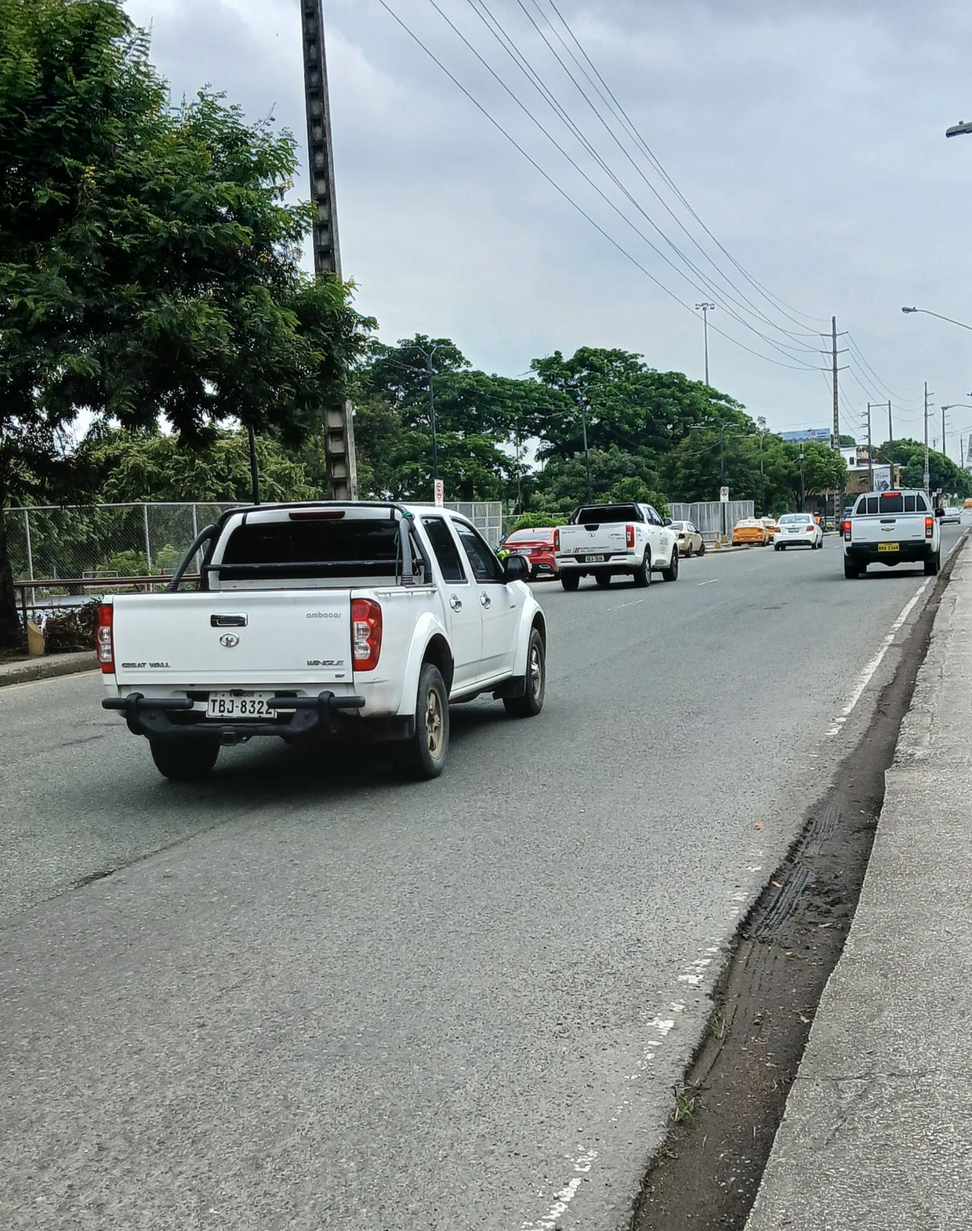license_plate: (205, 692, 277, 718), (877, 541, 899, 551), (584, 555, 604, 563), (512, 549, 531, 556), (789, 528, 799, 533)
